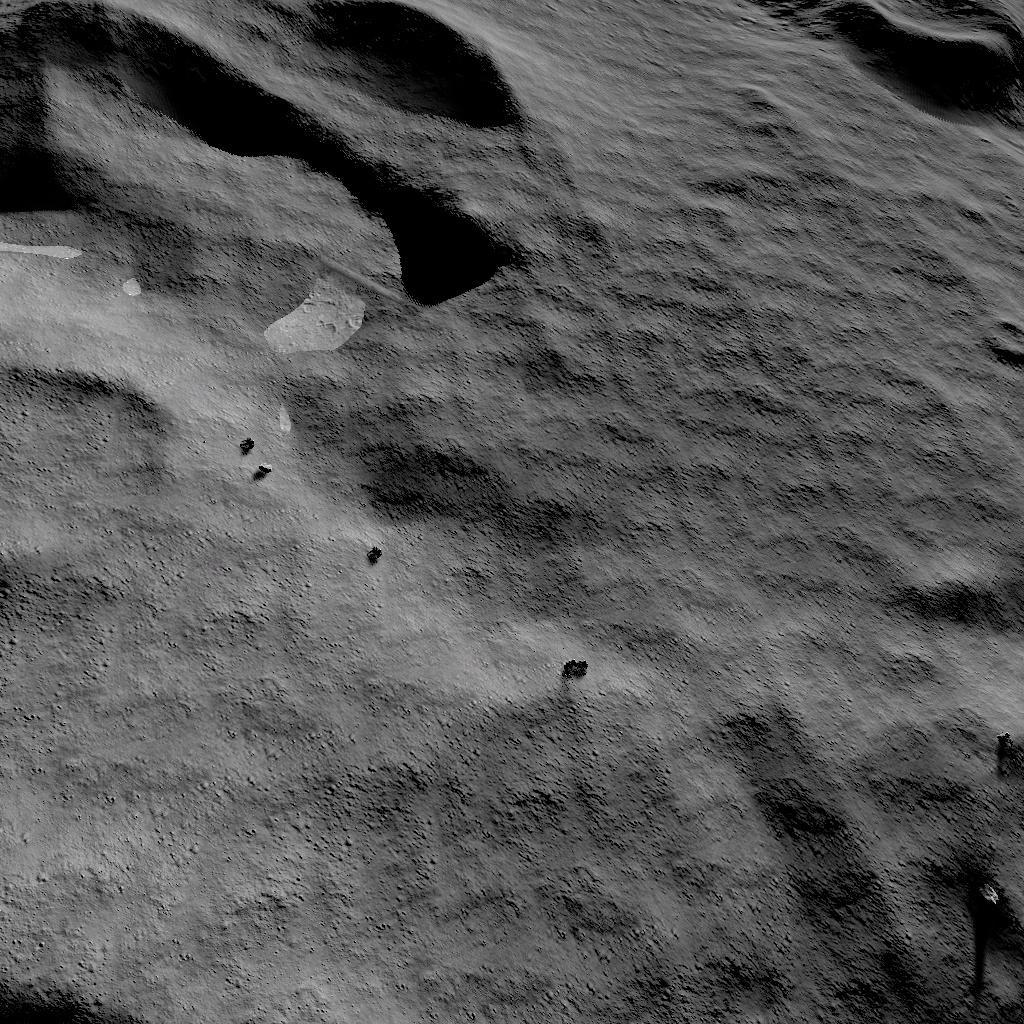Crater: (0, 0, 552, 311), (0, 340, 175, 588), (747, 0, 1024, 129)
Plan surface: (603, 148, 943, 1024), (0, 600, 554, 972)
